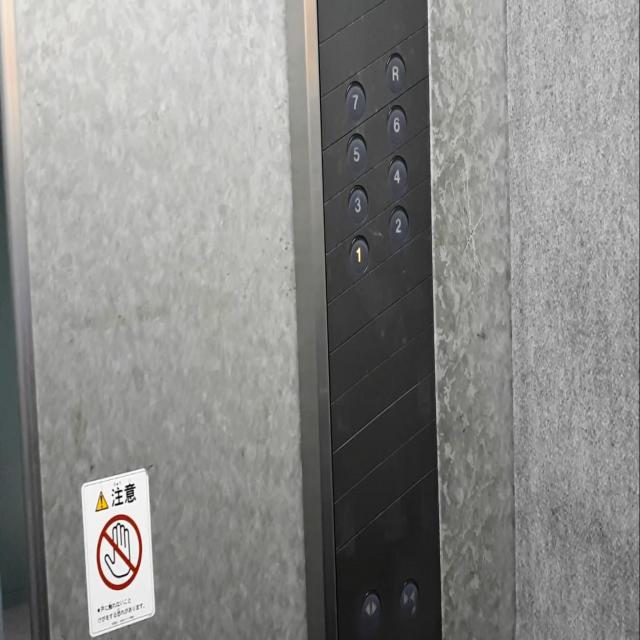1: (346, 231, 372, 281)
2: (386, 201, 410, 248)
3: (346, 182, 370, 228)
4: (385, 151, 409, 201)
5: (344, 129, 370, 179)
6: (386, 101, 409, 148)
7: (343, 77, 366, 125)
R: (383, 47, 409, 95)
close: (397, 576, 420, 622)
open: (359, 587, 383, 631)
